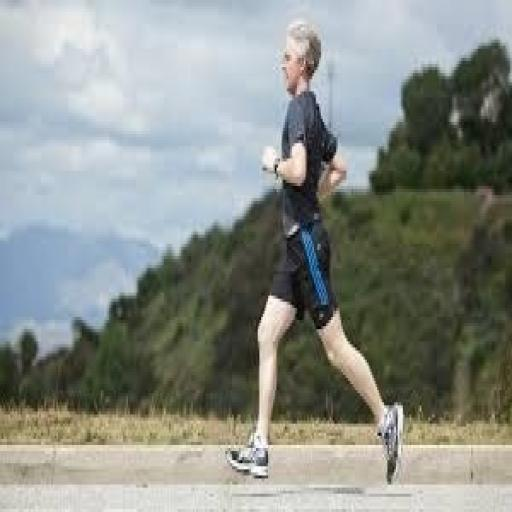running: (223, 18, 408, 488)
